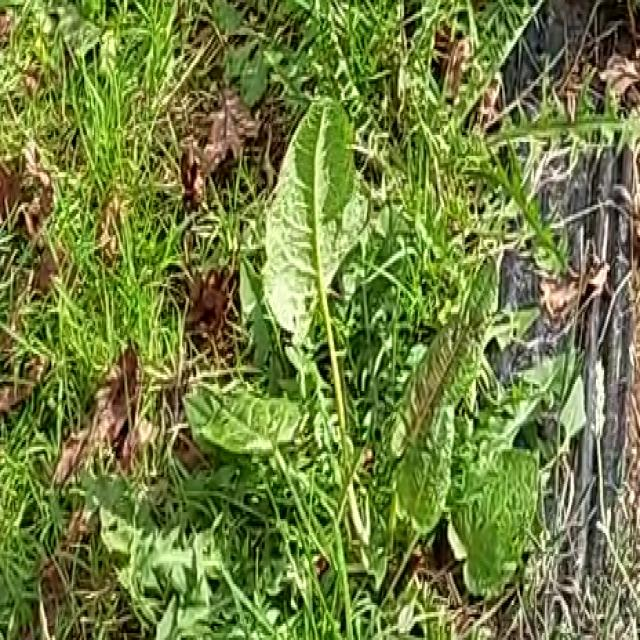organic waste: (176, 84, 570, 621)
